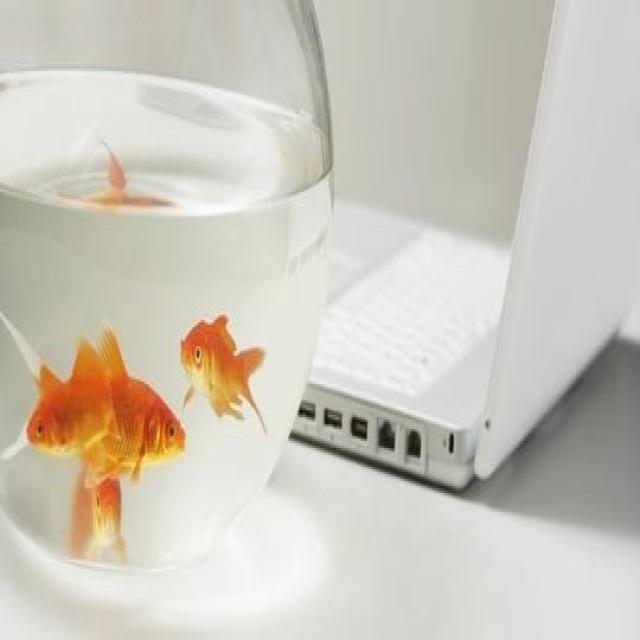GoldFish: (24, 318, 193, 488), (174, 309, 270, 440), (22, 334, 118, 458), (76, 446, 134, 574)
